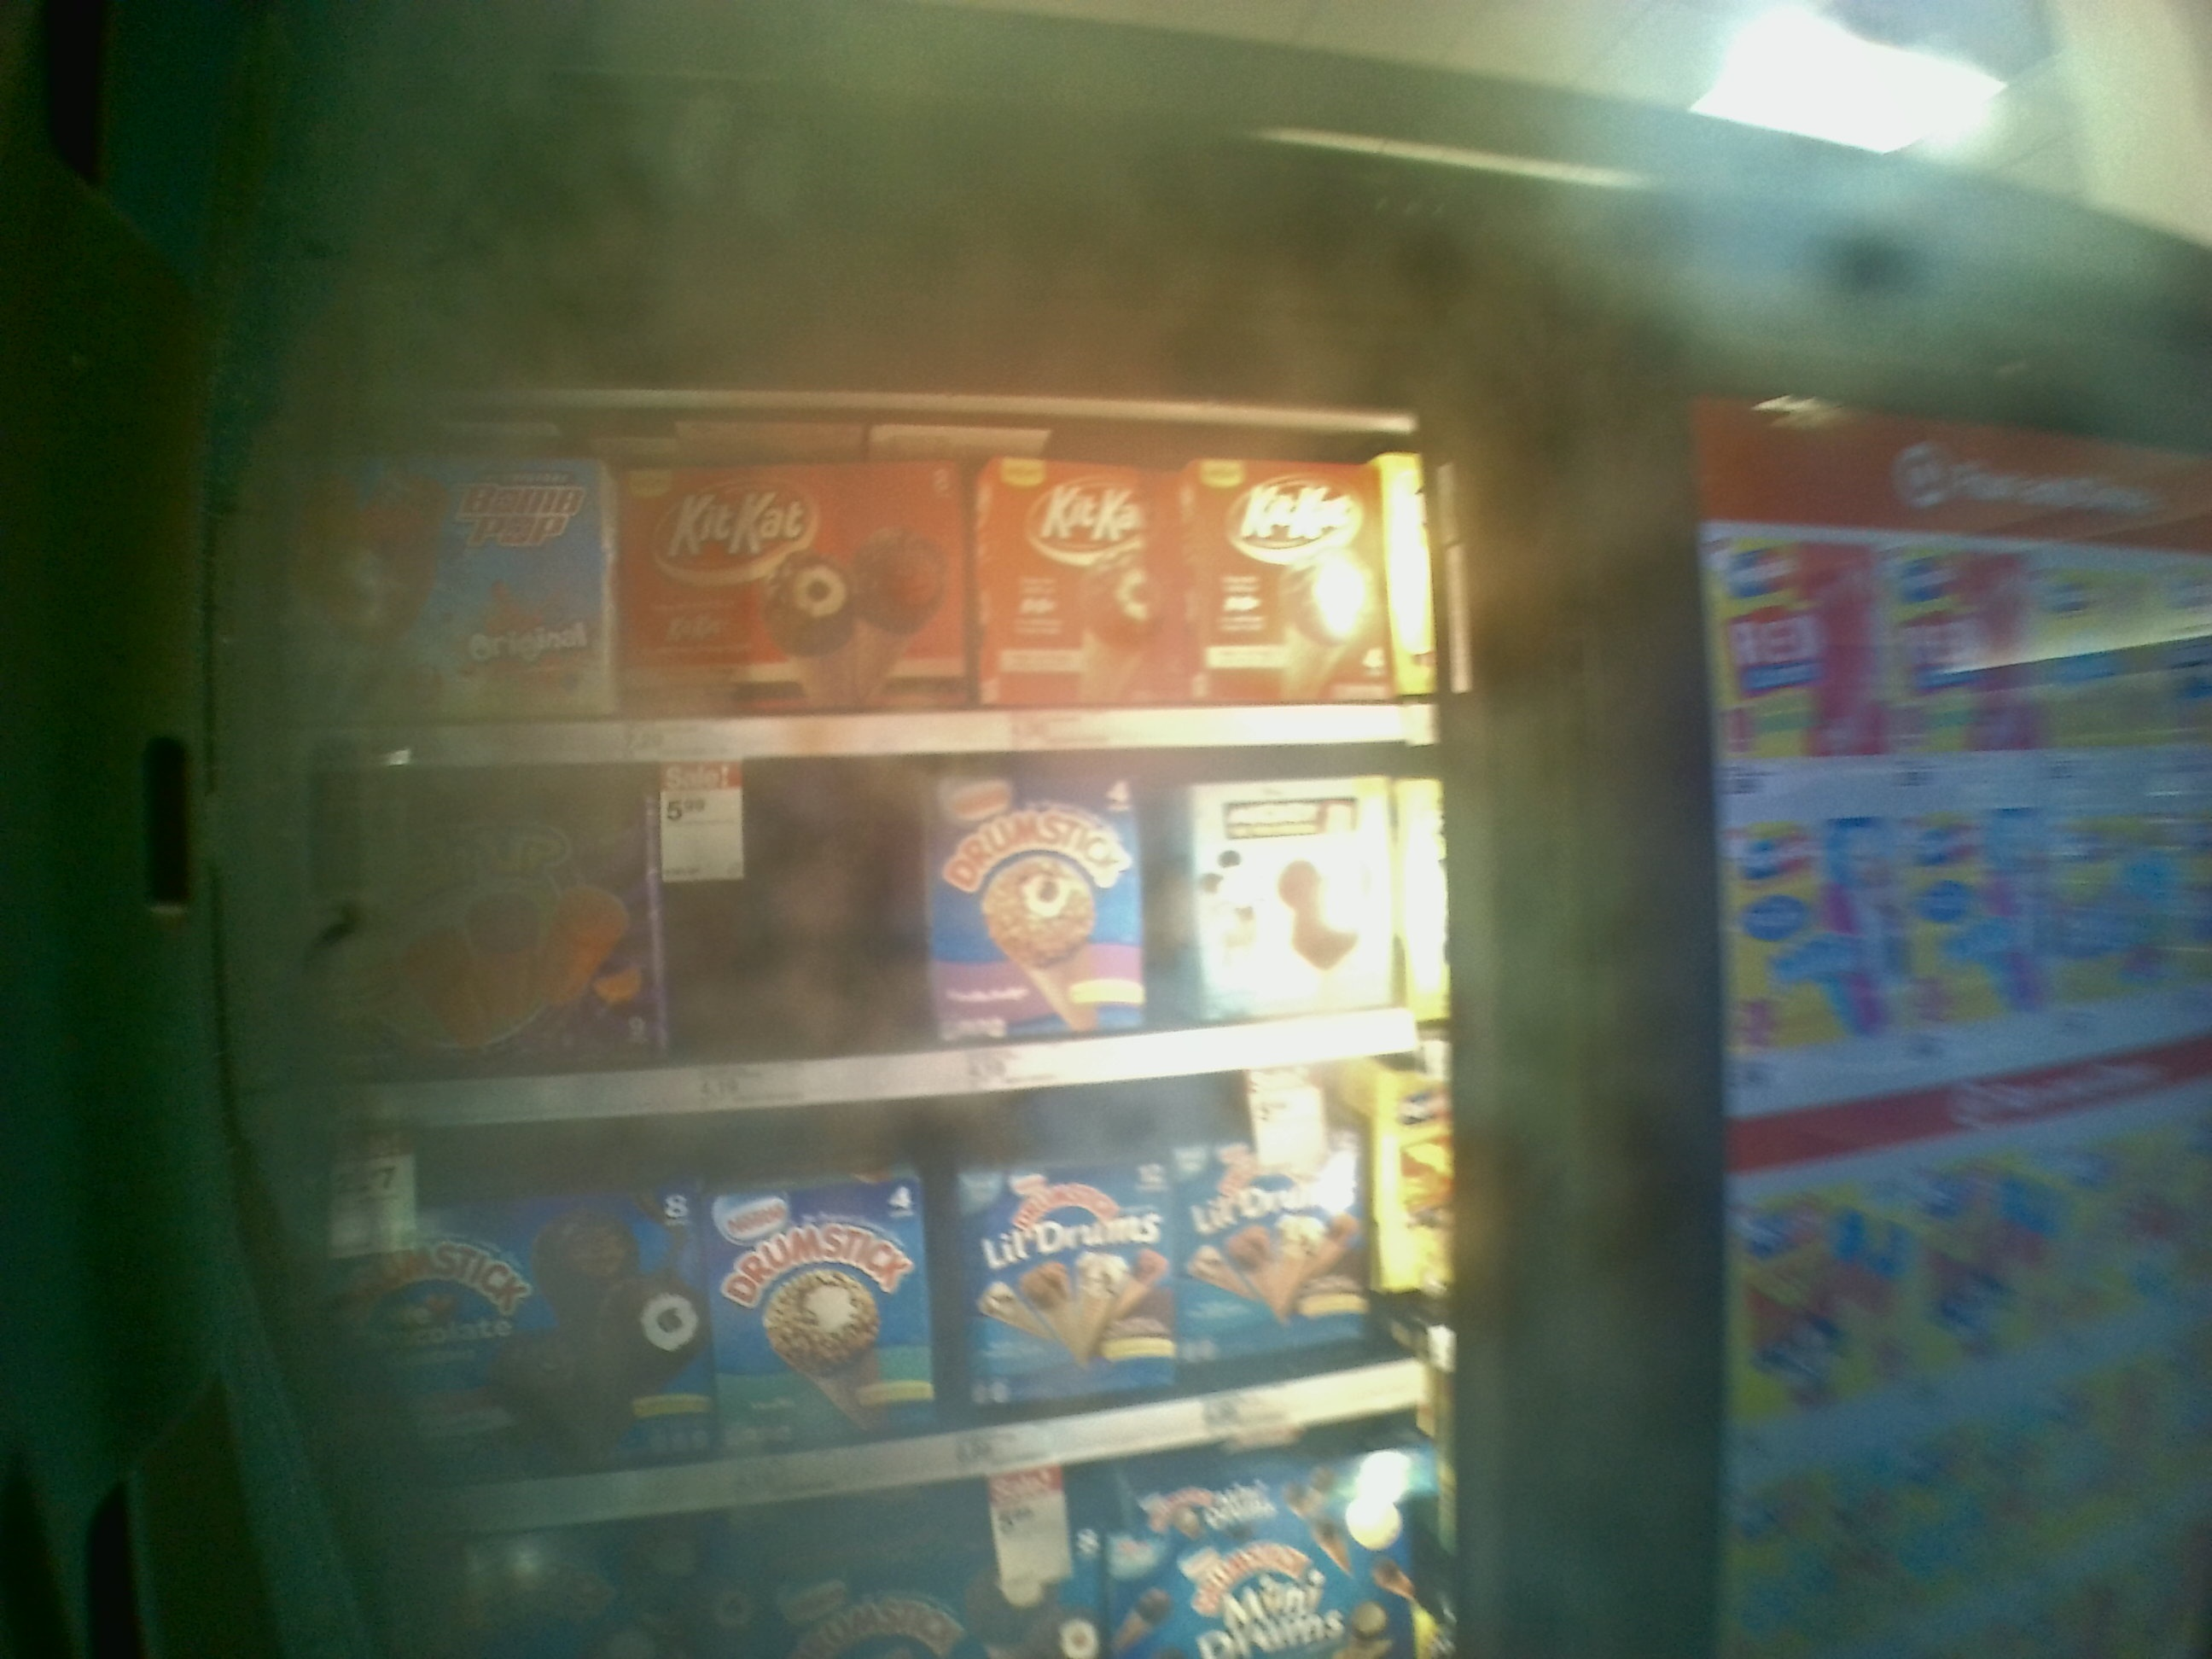shelf: (284, 734, 1458, 1122), (270, 401, 1440, 758)
